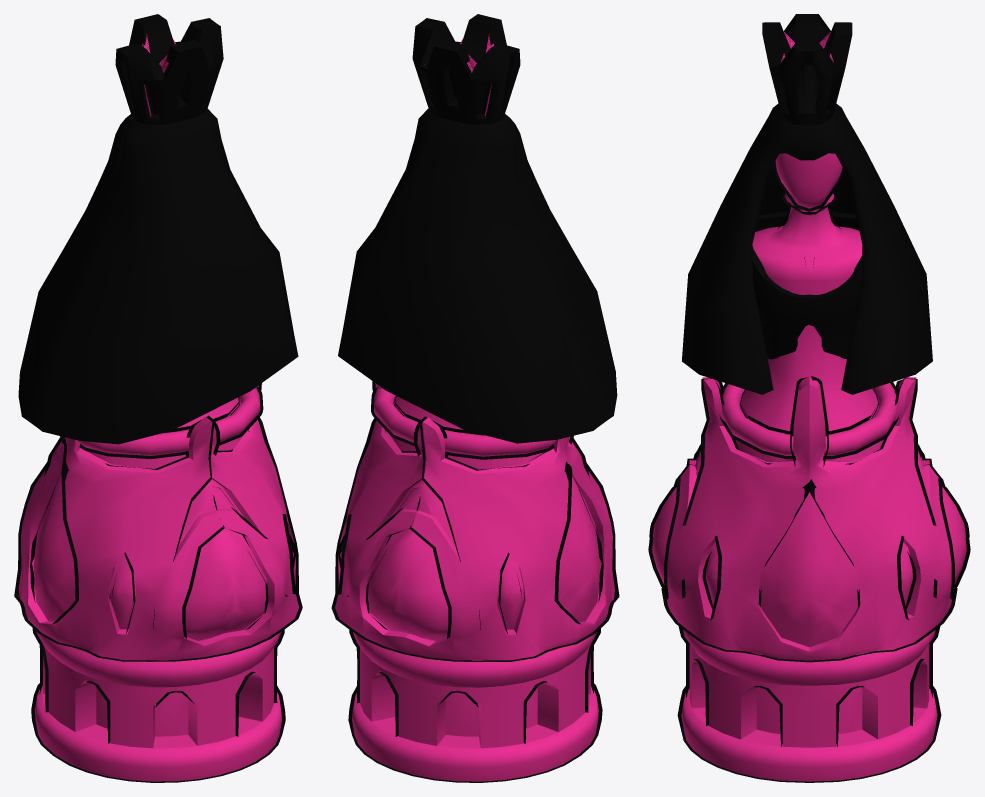
The model's file is Queen_Outlined01.fbx.
3 views of the same model, side by side, from view 1: azimuth 30°, elevation 25°; view 2: azimuth 150°, elevation 25°; view 3: azimuth 270°, elevation 25° (orthographic).
Parts seen in each view (by area): view 1: Cube.137, OutlineCrownQ, OutlineBaseQ, Cylinder.003, OutlineBody; view 2: Cube.137, OutlineCrownQ, OutlineBaseQ, Cylinder.003, OutlineBody; view 3: Cube.137, OutlineCrownQ, Cylinder.003, OutlineBaseQ, OutlineBust, Cube.136, OutlineBody.
Part boxes in pixels (box(x1,y1,x2,y2)): Cube.137: box(18, 385, 298, 781); OutlineCrownQ: box(18, 14, 298, 444); OutlineBaseQ: box(14, 383, 302, 782); Cylinder.003: box(77, 388, 260, 468); OutlineBody: box(78, 387, 263, 458); Cube.137: box(335, 383, 615, 781); OutlineCrownQ: box(338, 14, 617, 443); OutlineBaseQ: box(331, 381, 619, 782); Cylinder.003: box(374, 388, 556, 469); OutlineBody: box(371, 386, 554, 459); Cube.137: box(652, 377, 966, 781); OutlineCrownQ: box(682, 14, 932, 394); Cylinder.003: box(721, 193, 897, 461); OutlineBaseQ: box(648, 376, 970, 782); OutlineBust: box(752, 211, 862, 359); Cube.136: box(775, 153, 842, 208); OutlineBody: box(719, 191, 899, 459).
Size of the model in its own units: 140 by 373 by 154.
